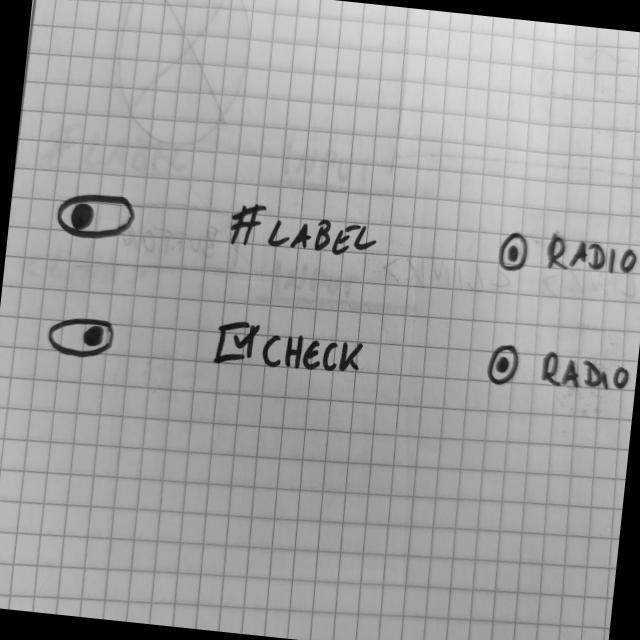checkbox: (212, 314, 369, 386)
label: (227, 197, 383, 264)
radio: (495, 225, 640, 291), (486, 342, 635, 400)
toggle: (52, 188, 141, 247), (47, 311, 119, 364)
